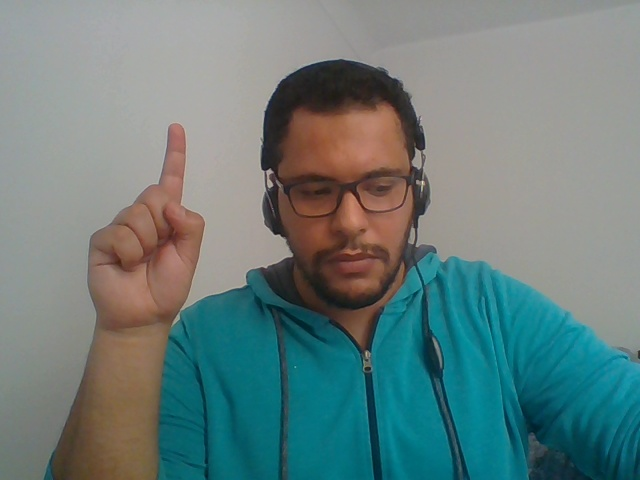handup: (56, 96, 215, 453)
